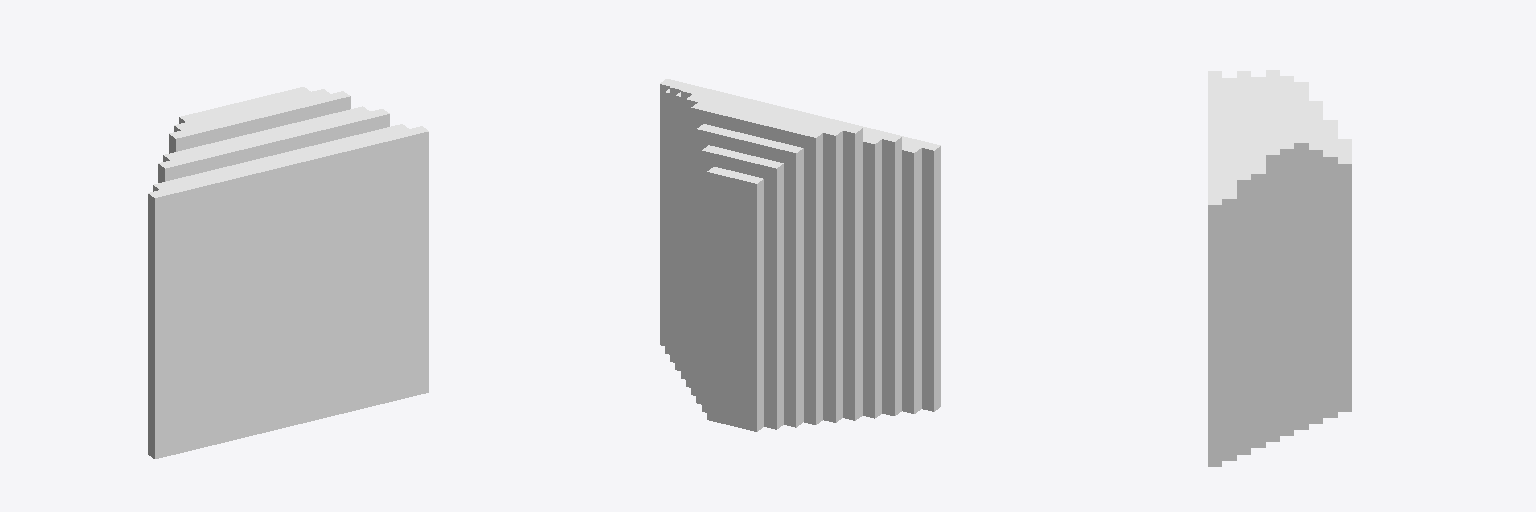
Rendered from bulkhead_wall.obj.
3 renders of one model, left to right at view 1: azimuth 30°, elevation 25°; view 2: azimuth 150°, elevation 25°; view 3: azimuth 270°, elevation 25°, orthographic.
Visible parts, largest first — view 1: object 1; view 2: object 1; view 3: object 1.
Part boxes in pixels (x1,y1,x2,y2): object 1: (148, 87, 428, 458); object 1: (660, 79, 940, 431); object 1: (1208, 70, 1351, 466).
Size of the model in its own units: 2.2 by 2.2 by 1.